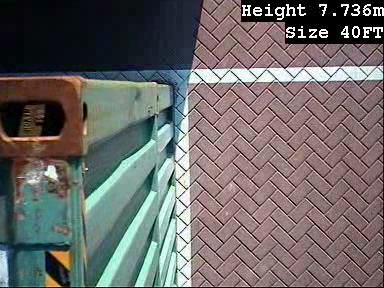groundmarker_2: (11, 1, 105, 125)
